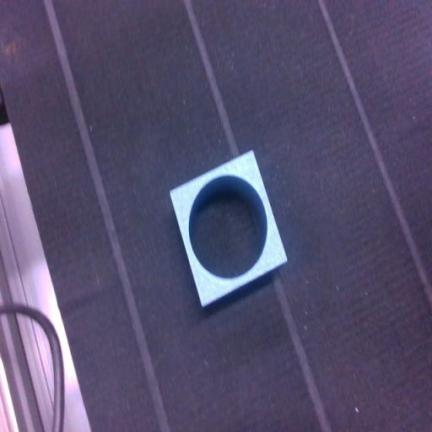hole: (171, 152, 286, 306)
